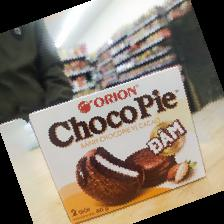Chocopie_cacao: (25, 65, 210, 224)
